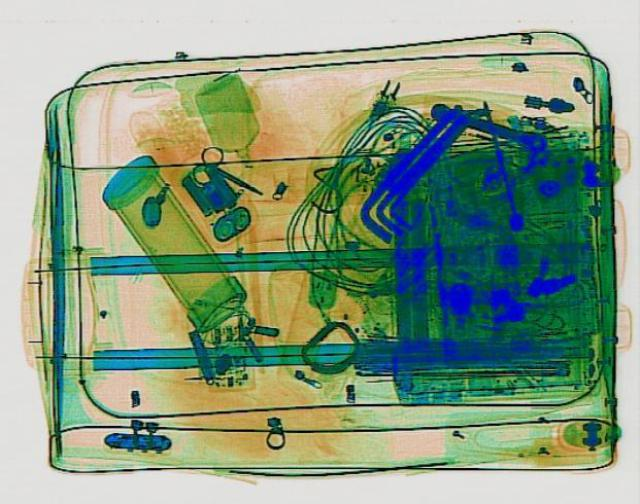Scissors: (178, 141, 278, 208)
